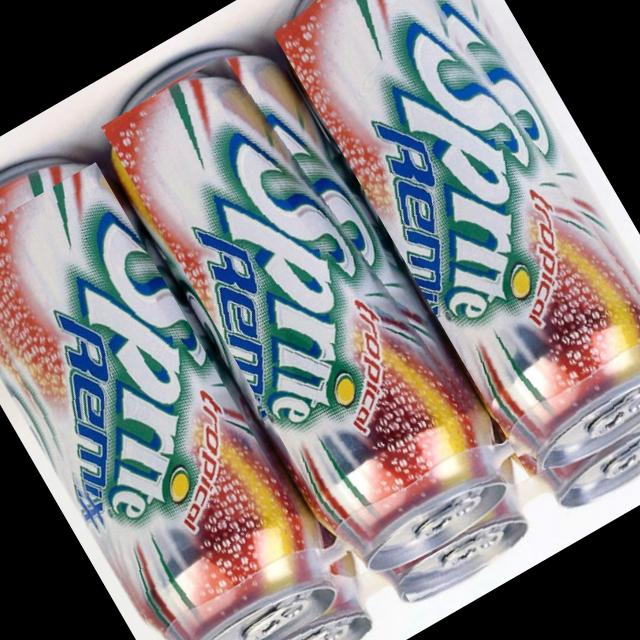Cans: (99, 34, 511, 562), (268, 0, 640, 478), (0, 161, 333, 640), (392, 506, 532, 610), (549, 405, 640, 527), (213, 596, 375, 640)
